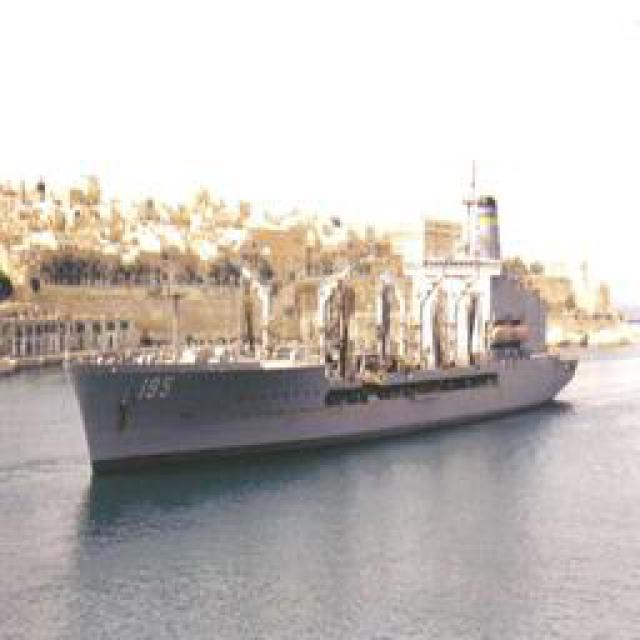Ship: (65, 238, 590, 469)
